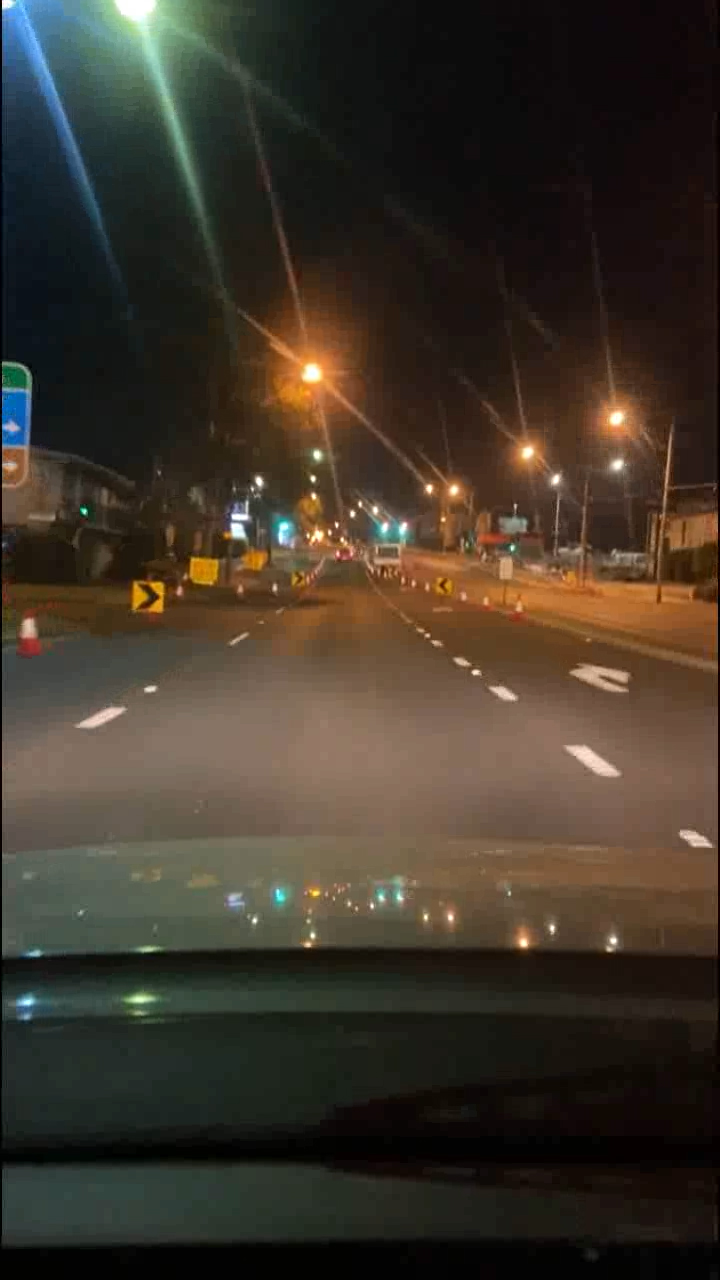road cone: (20, 604, 41, 652), (508, 596, 518, 617)
road works sign board: (129, 579, 164, 611), (193, 558, 222, 588), (289, 573, 302, 588), (439, 575, 449, 592)
